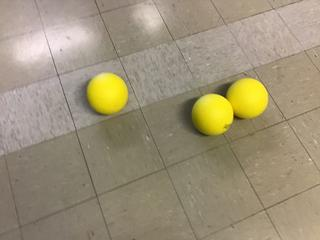power_cell: (189, 91, 234, 137), (226, 75, 271, 120), (87, 71, 131, 114)
